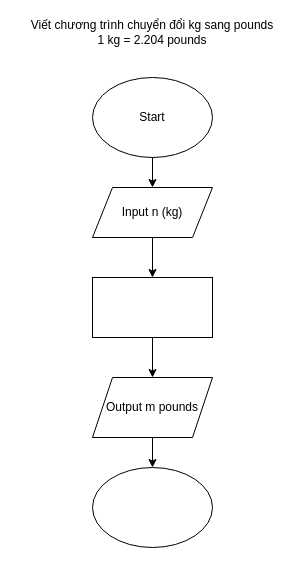
The diagram is 304 pixels wide and 565 high, and some of its shapes have lost their labels. The centre of each missing label's shape, as x and y in pixels:
"End" belongs at point (152, 507).
"m = n * 2.204" belongs at point (152, 307).
